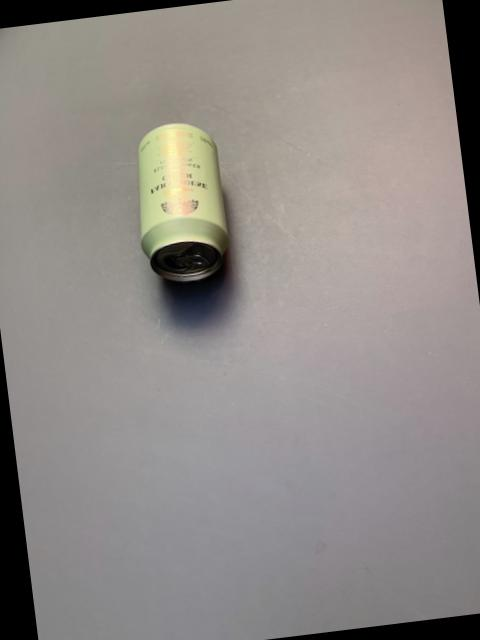metal: (139, 121, 229, 278)
